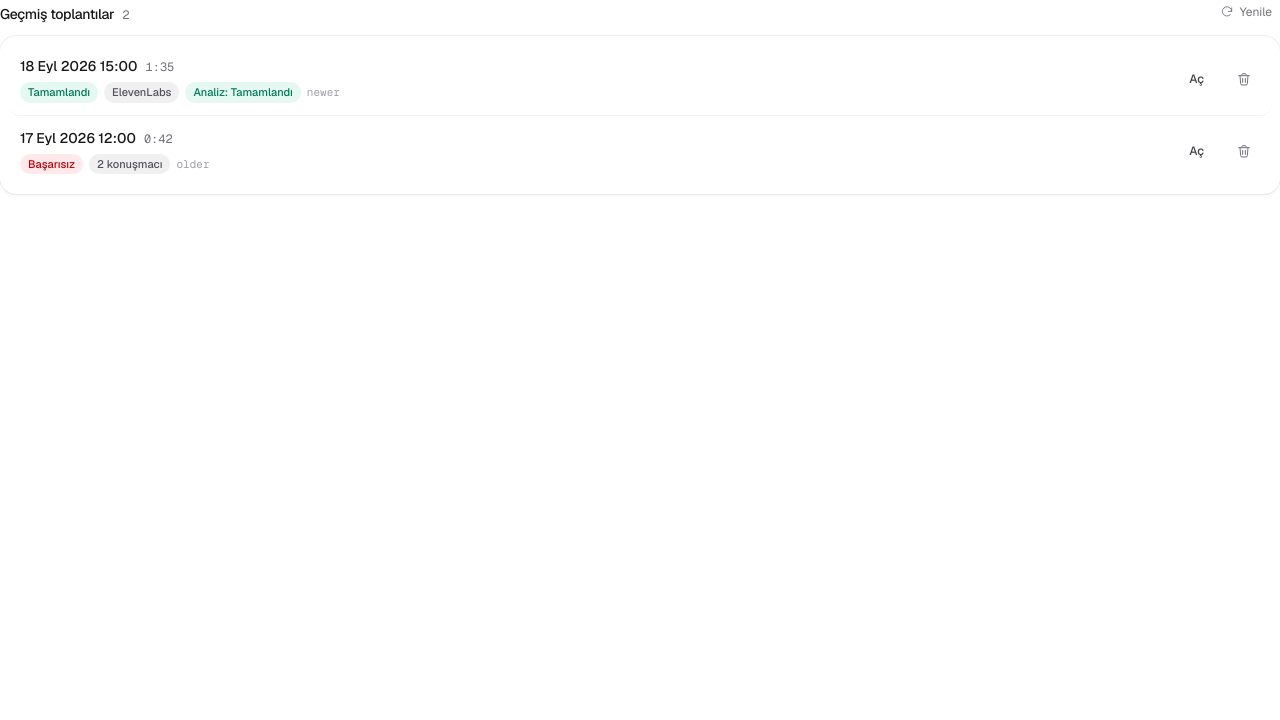
Scenario: MeetingHistory deletion › keeps the row and shows the error when the API fails
Click the button named "Toplantıyı sil".
click(1244, 79)  # box x1=1228 y1=63 x2=1260 y2=95
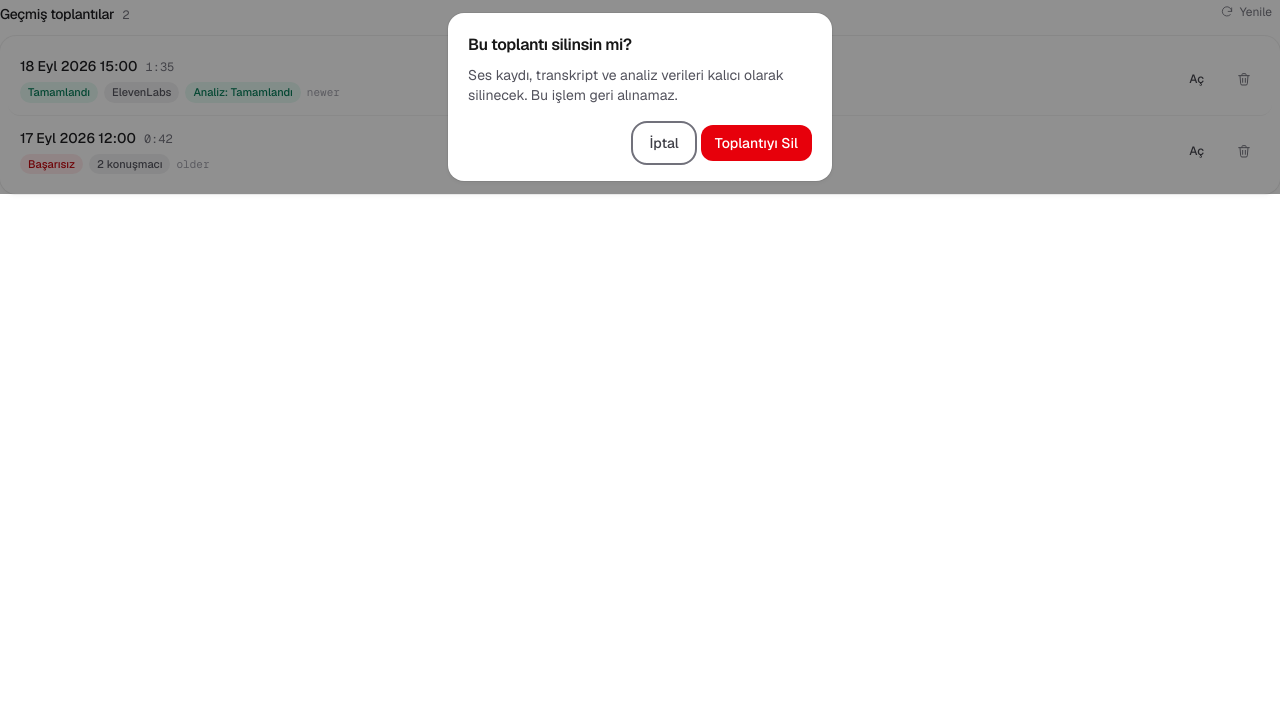
Click the button "Toplantıyı Sil".
click(756, 143)  # box x1=701 y1=125 x2=812 y2=161
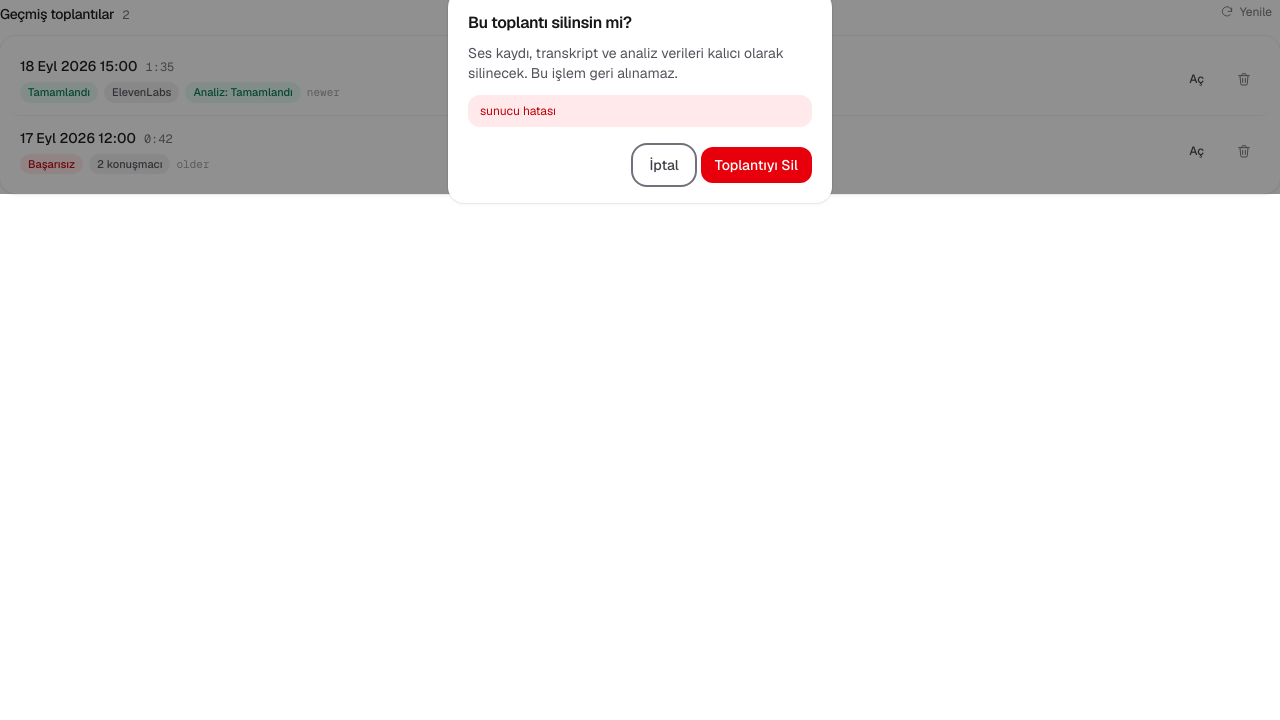
Expected: the number of list items is 2, x1=8 y1=44 x2=1272 y2=116; x1=8 y1=116 x2=1272 y2=186
Result: the message reads "sunucu hatası" at x1=480 y1=103 x2=556 y2=119
